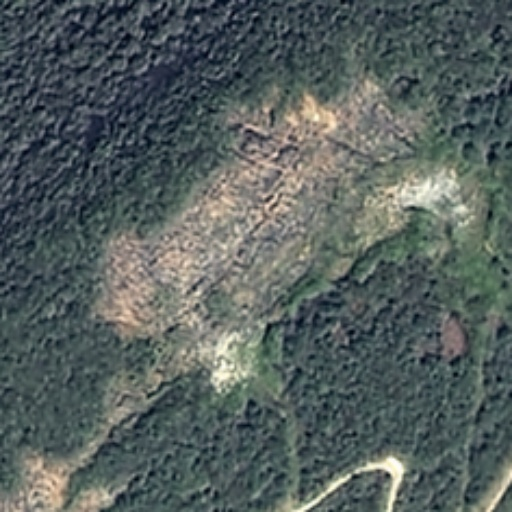landslide: (115, 77, 466, 359)
